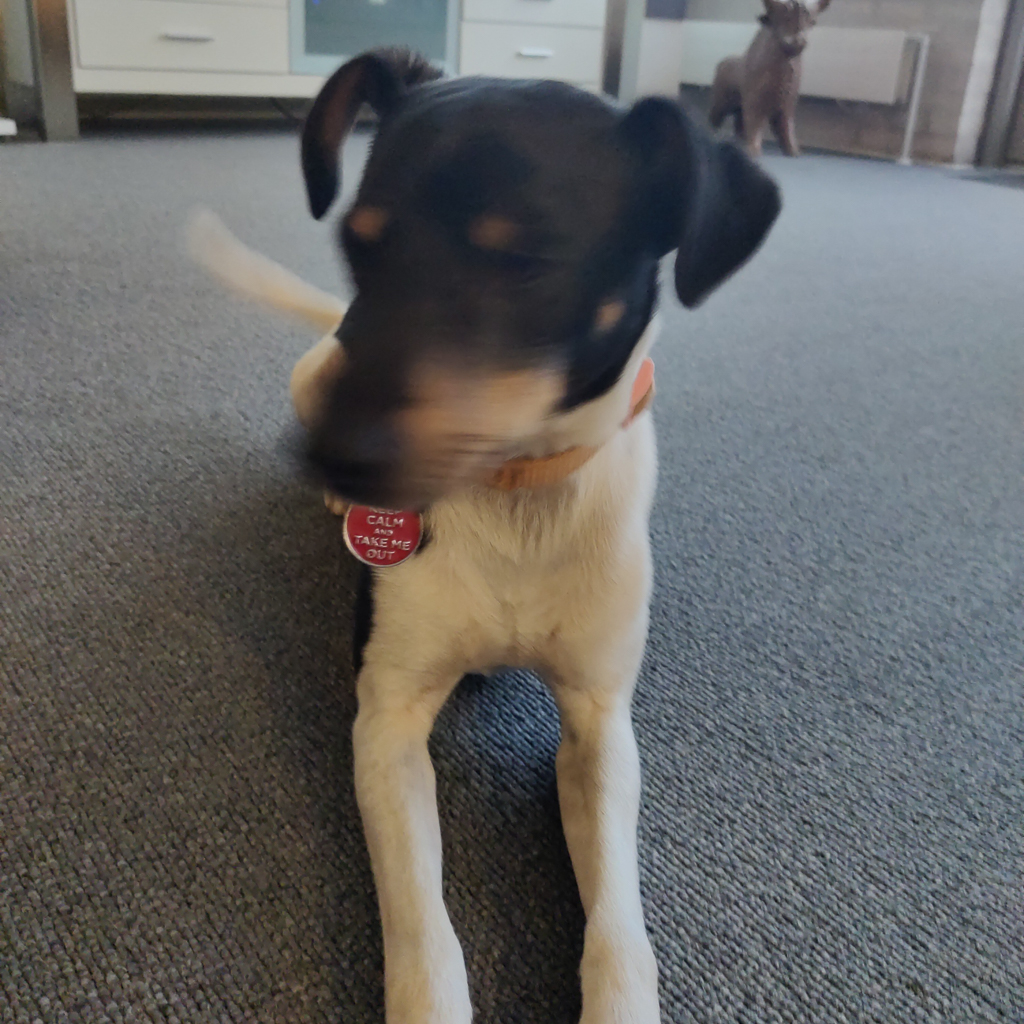Cattle: (698, 0, 841, 164)
Dog: (161, 25, 795, 1024)
